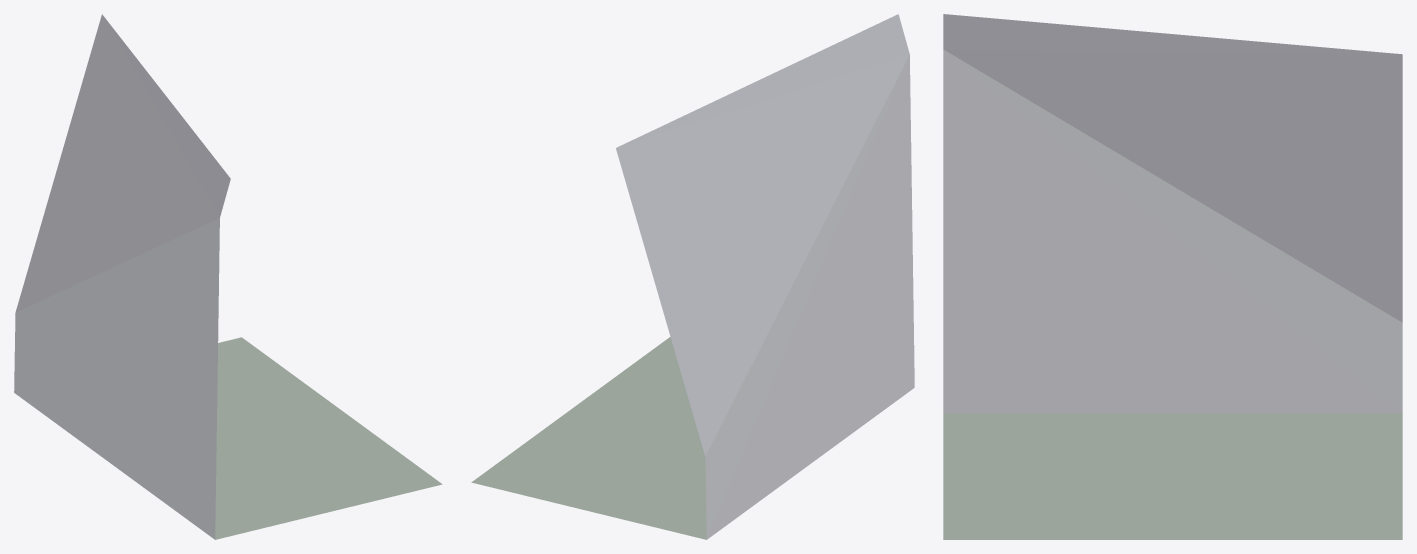
The picture shows the model from 3 angles, left to right: view 1: azimuth 30°, elevation 25°; view 2: azimuth 150°, elevation 25°; view 3: azimuth 270°, elevation 25°; orthographic projection. The views are drawn at different scales.
Bounding box in the file's own units: 0.6425 × 0.9637 × 0.983.
Materials: 1 (1 with a texture image).
